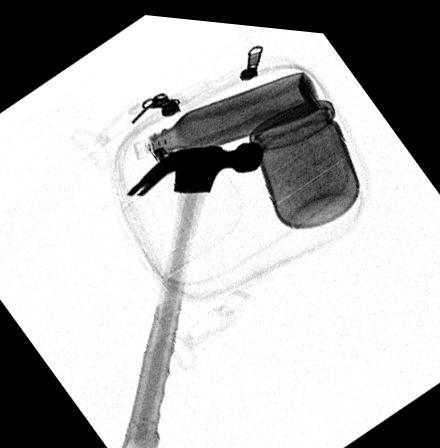Hammer: (118, 134, 264, 448)
